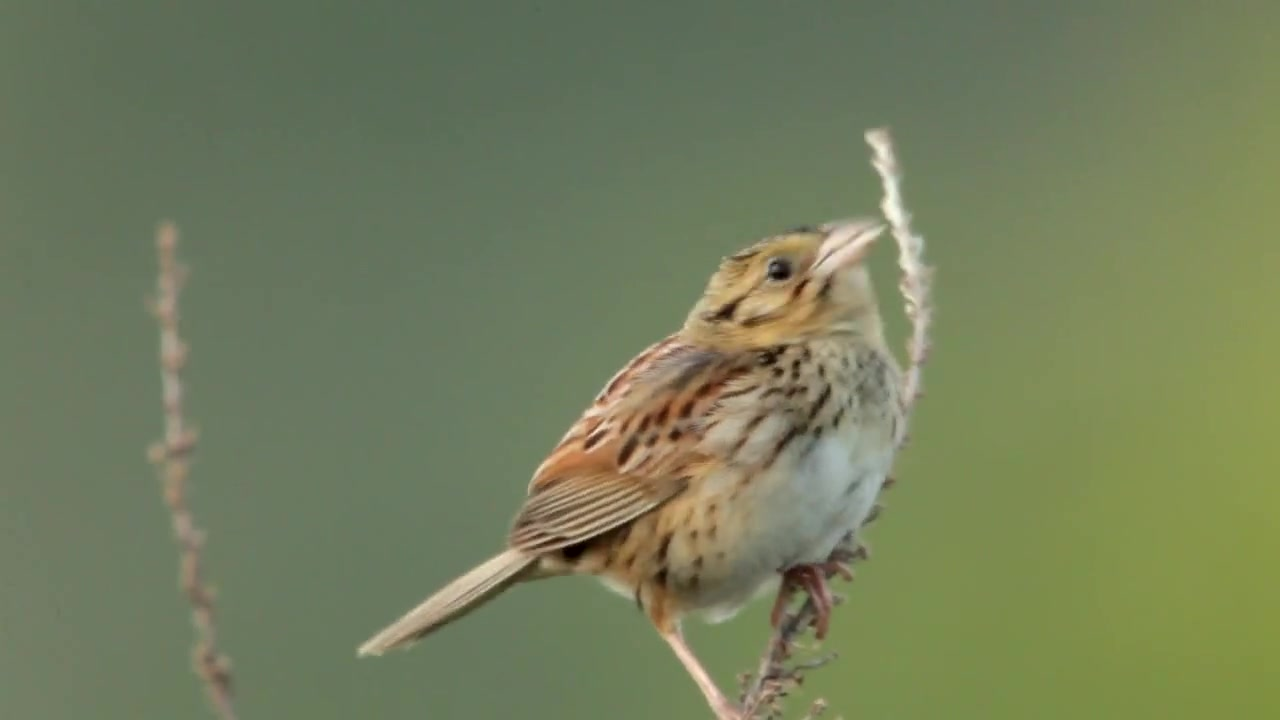bird: (356, 219, 912, 720)
